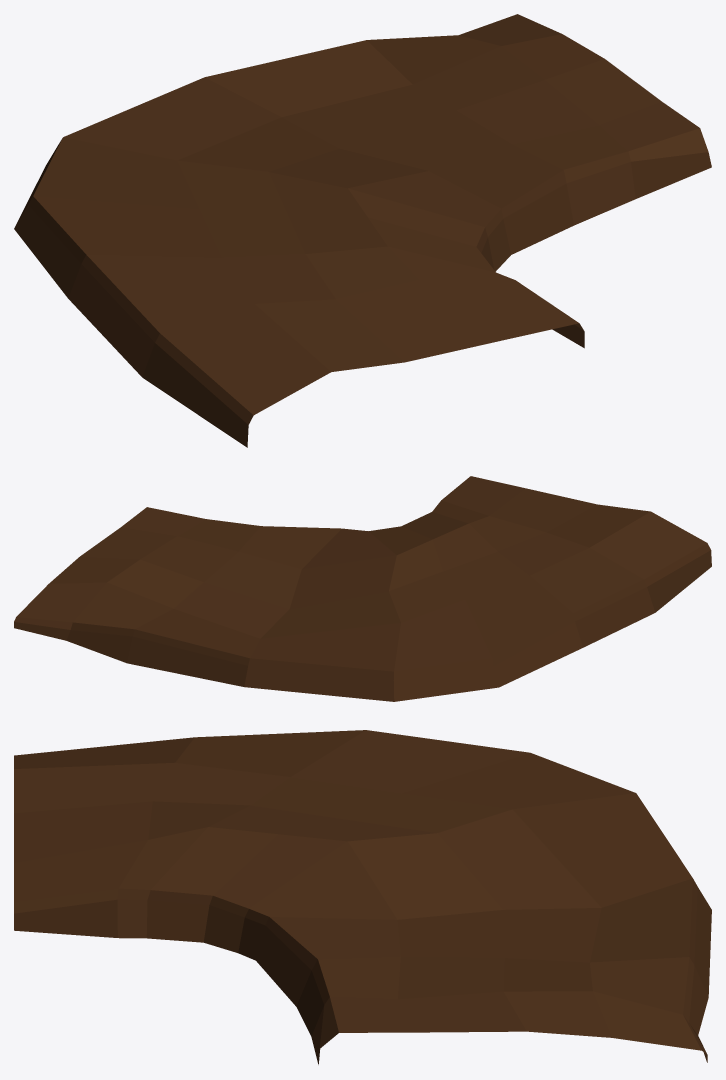
File: RoadDirty_3.fbx
3 views of the same model, one above another, from view 1: azimuth 30°, elevation 25°; view 2: azimuth 150°, elevation 25°; view 3: azimuth 270°, elevation 25° (orthographic). The views are drawn at different scales.
Parts seen in each view (by area): view 1: RoadDirty_3; view 2: RoadDirty_3; view 3: RoadDirty_3.
Part boxes in pixels (box(x1,y1,x2,y2)): RoadDirty_3: box(14, 14, 711, 447); RoadDirty_3: box(14, 476, 711, 701); RoadDirty_3: box(14, 730, 711, 1064).
Bounding box in the file's own units: 565 × 62.04 × 542.
